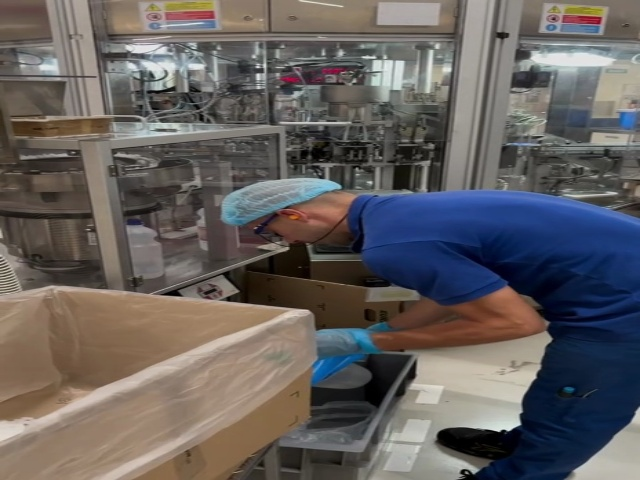Earplug: (278, 211, 309, 222)
Hairnet: (223, 176, 332, 226)
No_Helmet: (224, 177, 345, 228)
No_Vest: (358, 192, 640, 300)
Person: (226, 175, 640, 480)
Safety_Goggles: (239, 202, 292, 239)
